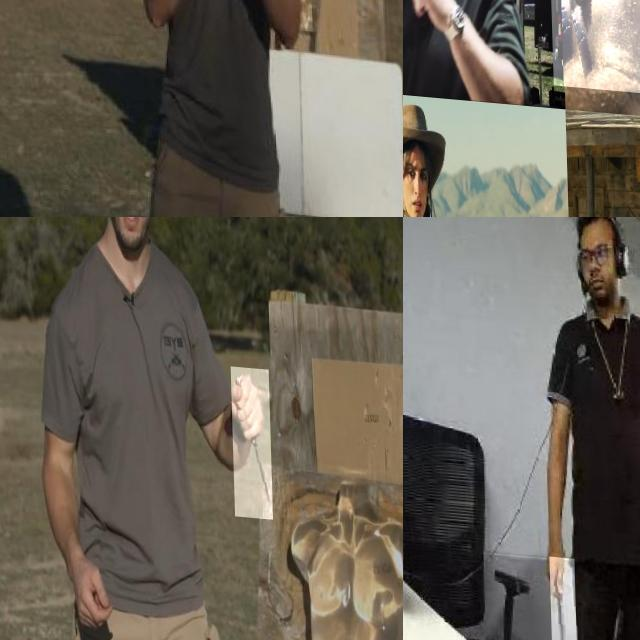-: (229, 359, 270, 512), (220, 0, 263, 100), (186, 0, 234, 73), (546, 552, 573, 640)
gun-knife-thesis - v11 Yolov5 augmented: (546, 0, 640, 140), (403, 0, 430, 61)
